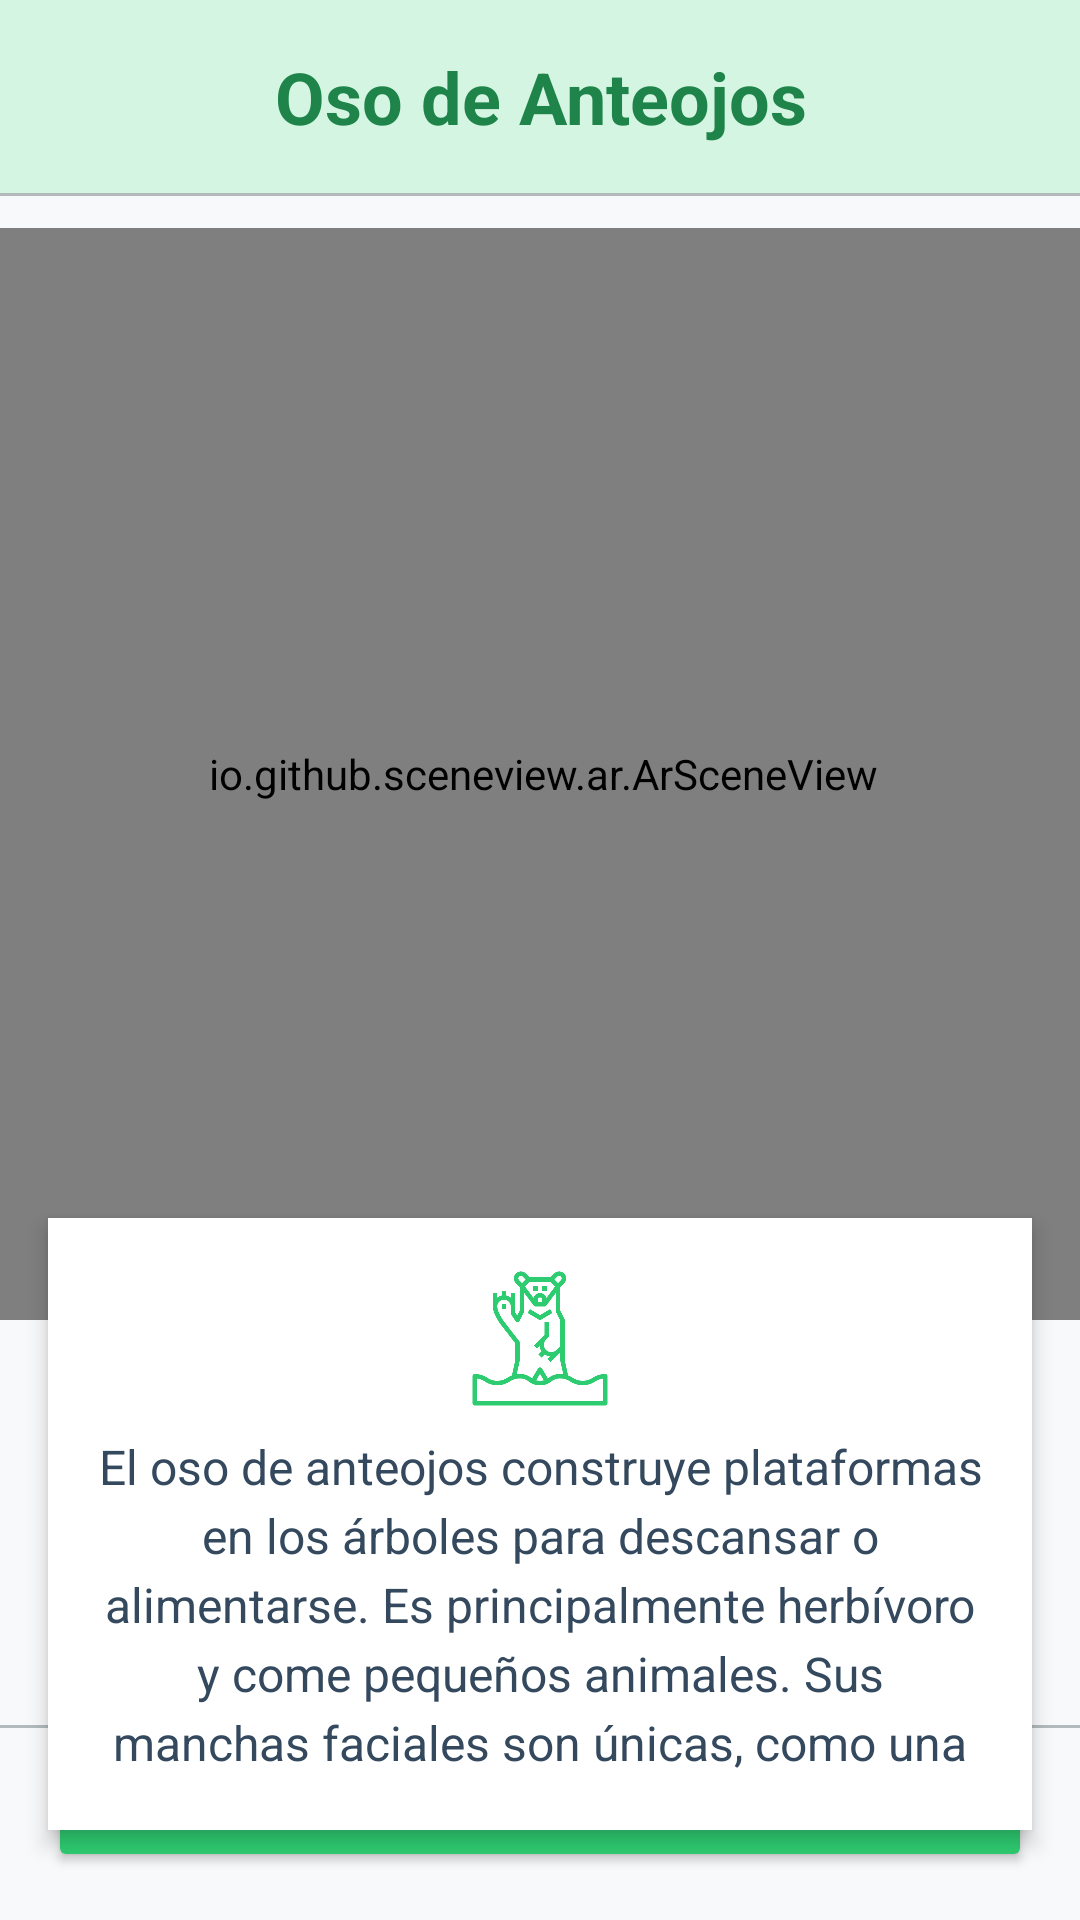

Icon bounding boxes for this 1080px x 1920px phone screenshot, format (x1, y1, x2, y2):
Icono de oso: (472, 1271, 608, 1406)
